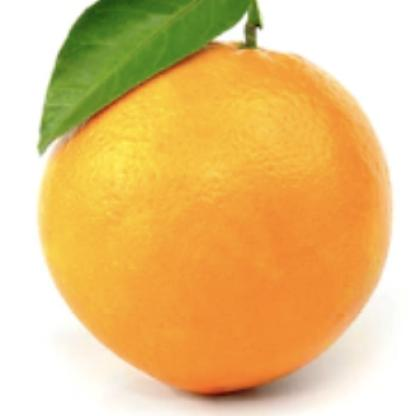fresh: (40, 33, 394, 393)
